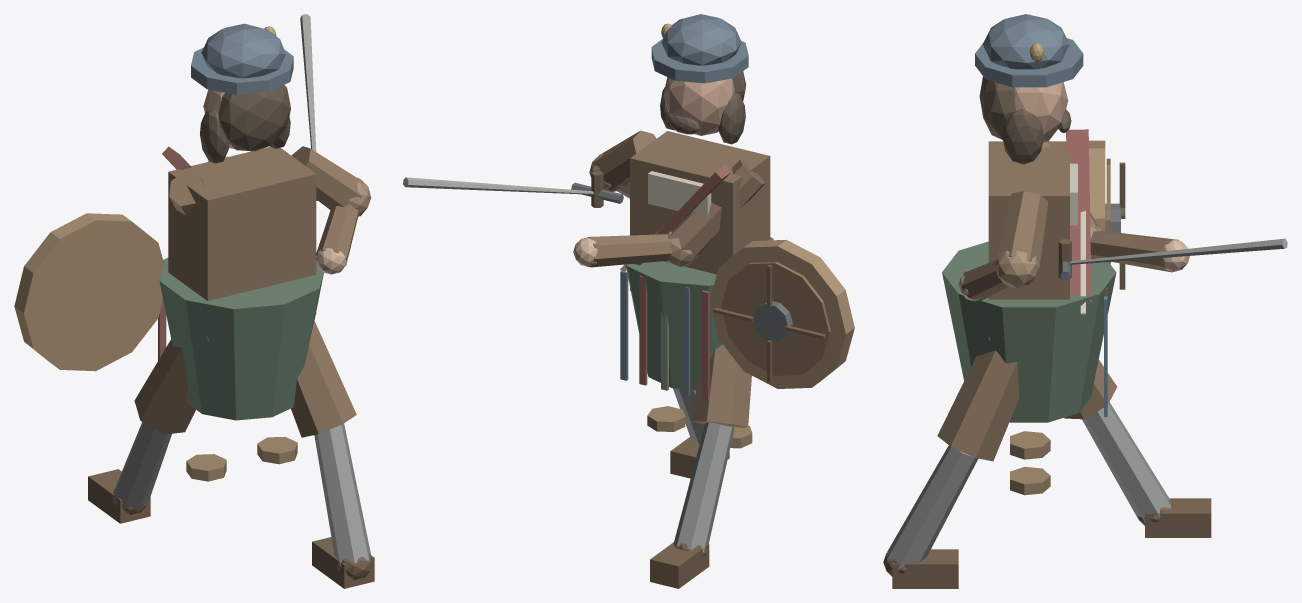
File: jacobite_highlander_sword_charge.glb
The picture shows the model from 3 angles, left to right: view 1: azimuth 30°, elevation 25°; view 2: azimuth 150°, elevation 25°; view 3: azimuth 270°, elevation 25°; orthographic projection. The views are drawn at different scales.
Visible parts, largest first — view 1: brown, wood_lt, tartan_g, grey, blue, hair, leather, leather_lt, steel, tartan_r, skin_light; view 2: brown, wood, wood_lt, tartan_g, blue, grey, leather, tartan_r, skin, hair, tartan_b, linen (+5 smaller); view 3: brown, tartan_g, grey, blue, leather, hair, tartan_r, leather_lt, skin, steel, wood_lt, brown_lt (+3 smaller).
Boxes of the visible parts, left/top/right/bottom form: brown: left=134, top=146, right=363, bottom=437; wood_lt: left=14, top=213, right=164, bottom=371; tartan_g: left=159, top=257, right=323, bottom=420; grey: left=113, top=422, right=370, bottom=565; blue: left=191, top=23, right=293, bottom=94; hair: left=200, top=85, right=290, bottom=163; leather: left=88, top=199, right=374, bottom=588; leather_lt: left=186, top=437, right=297, bottom=481; steel: left=300, top=14, right=316, bottom=151; tartan_r: left=158, top=146, right=191, bottom=360; skin_light: left=225, top=156, right=347, bottom=274; brown: left=588, top=130, right=770, bottom=427; wood: left=721, top=262, right=830, bottom=375; wood_lt: left=709, top=239, right=854, bottom=388; tartan_g: left=626, top=237, right=773, bottom=390; blue: left=651, top=14, right=748, bottom=83; grey: left=673, top=388, right=734, bottom=552; leather: left=591, top=171, right=825, bottom=588; tartan_r: left=625, top=164, right=731, bottom=400; skin: left=663, top=77, right=734, bottom=135; hair: left=660, top=71, right=745, bottom=144; tartan_b: left=620, top=270, right=690, bottom=395; linen: left=620, top=171, right=711, bottom=270; brown: left=937, top=141, right=1178, bottom=461; tartan_g: left=942, top=241, right=1116, bottom=422; grey: left=887, top=402, right=1170, bottom=569; blue: left=975, top=14, right=1083, bottom=87; leather: left=883, top=162, right=1211, bottom=588; hair: left=979, top=76, right=1071, bottom=164; tartan_r: left=1066, top=129, right=1107, bottom=302; leather_lt: left=1010, top=431, right=1050, bottom=495; skin: left=1014, top=82, right=1068, bottom=142; steel: left=1069, top=238, right=1287, bottom=264; wood_lt: left=1089, top=140, right=1105, bottom=230; brown_lt: left=994, top=225, right=1101, bottom=288.
Size of the model in its own units: 1.34 by 1.75 by 1.2.
